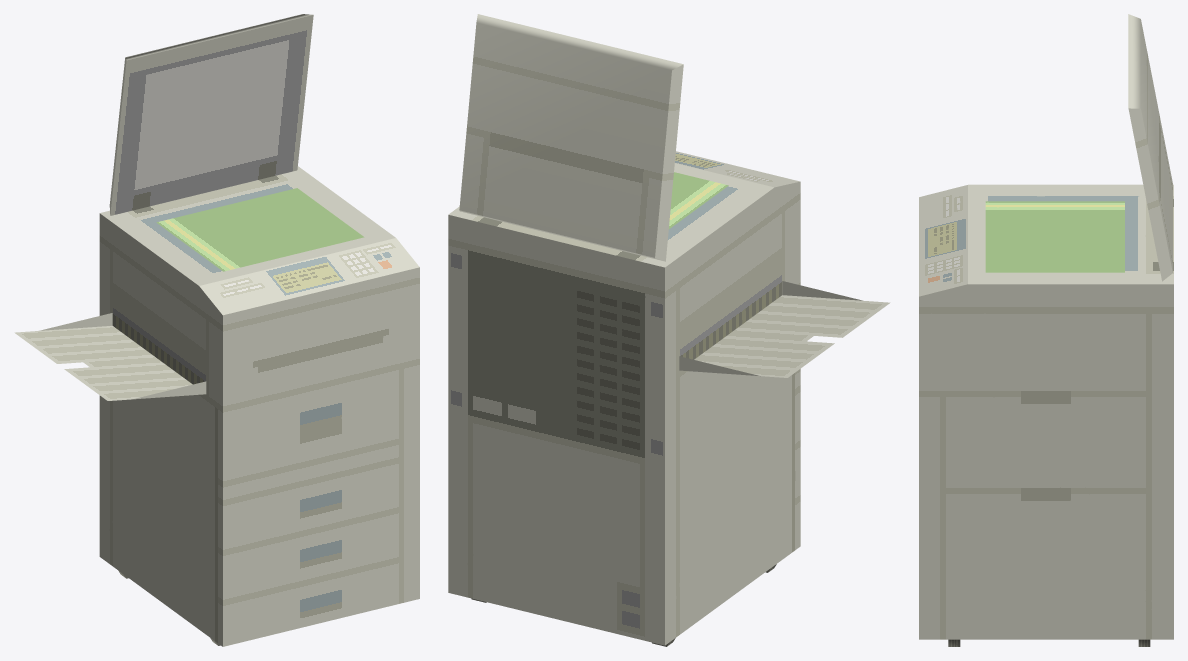
Rendered from 052f_Copy_Machine.glb.
3 views of the same model, side by side, from view 1: azimuth 30°, elevation 25°; view 2: azimuth 150°, elevation 25°; view 3: azimuth 270°, elevation 25° (orthographic). The views are drawn at different scales.
Visible parts, largest first — view 1: part_0, part_1; view 2: part_0, part_1; view 3: part_0, part_1.
Part boxes in pixels (x1=…): part_0: x1=14, y1=14, x2=419, y2=646; part_1: x1=156, y1=188, x2=364, y2=271; part_0: x1=448, y1=14, x2=890, y2=646; part_1: x1=668, y1=172, x2=728, y2=229; part_0: x1=919, y1=14, x2=1173, y2=646; part_1: x1=985, y1=201, x2=1124, y2=272.
Bounding box in the file's own units: 0.9 × 1.52 × 0.65.
Materials: 2 (2 with a texture image).
